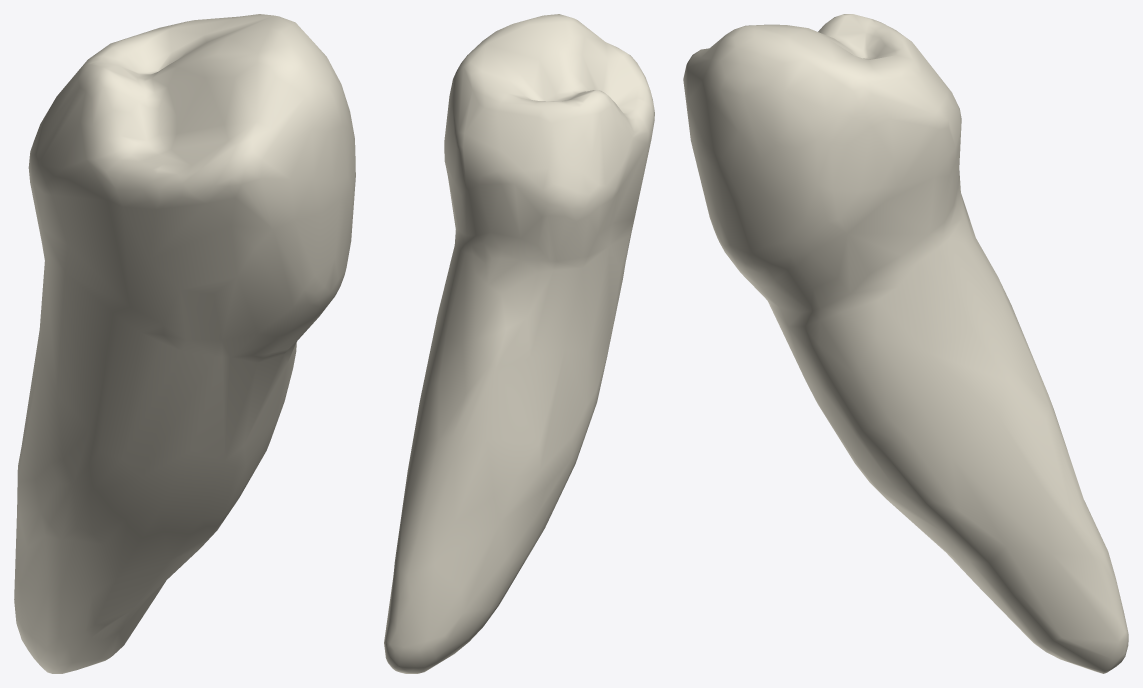
3 views of the same model, side by side, from view 1: azimuth 30°, elevation 25°; view 2: azimuth 150°, elevation 25°; view 3: azimuth 270°, elevation 25° (orthographic). The views are drawn at different scales.
Parts seen in each view (by area): view 1: ZA_d929ce5375b386ab; view 2: ZA_d929ce5375b386ab; view 3: ZA_d929ce5375b386ab.
Boxes of the visible parts, x1,y1,x2,y2 form: ZA_d929ce5375b386ab: (14,14,355,673); ZA_d929ce5375b386ab: (384,14,654,673); ZA_d929ce5375b386ab: (683,14,1128,673).
Bounding box in the file's own units: 0.00778 × 0.022 × 0.0138.
